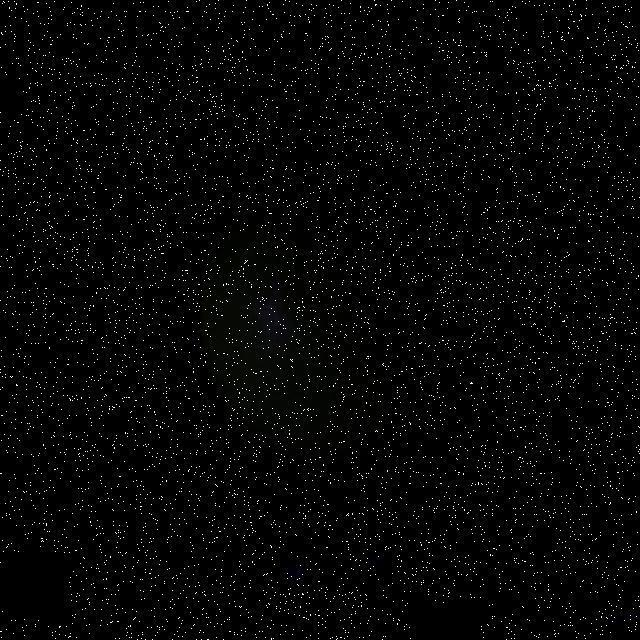egg: (192, 186, 466, 476)
